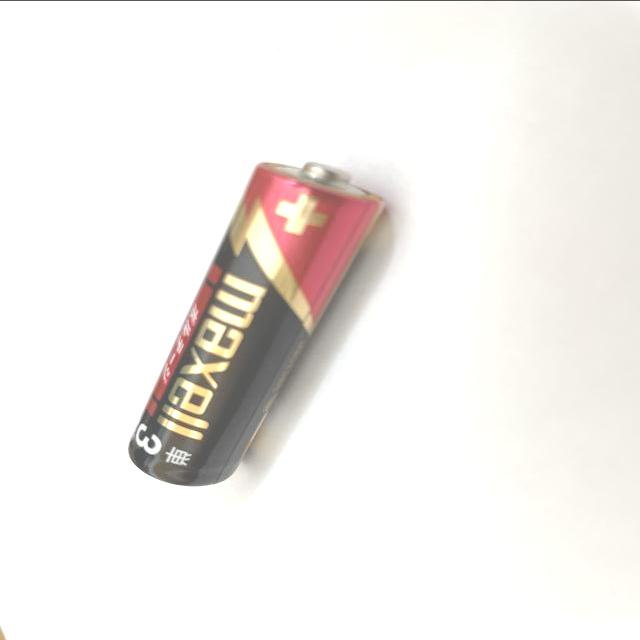AA: (127, 159, 390, 485)
